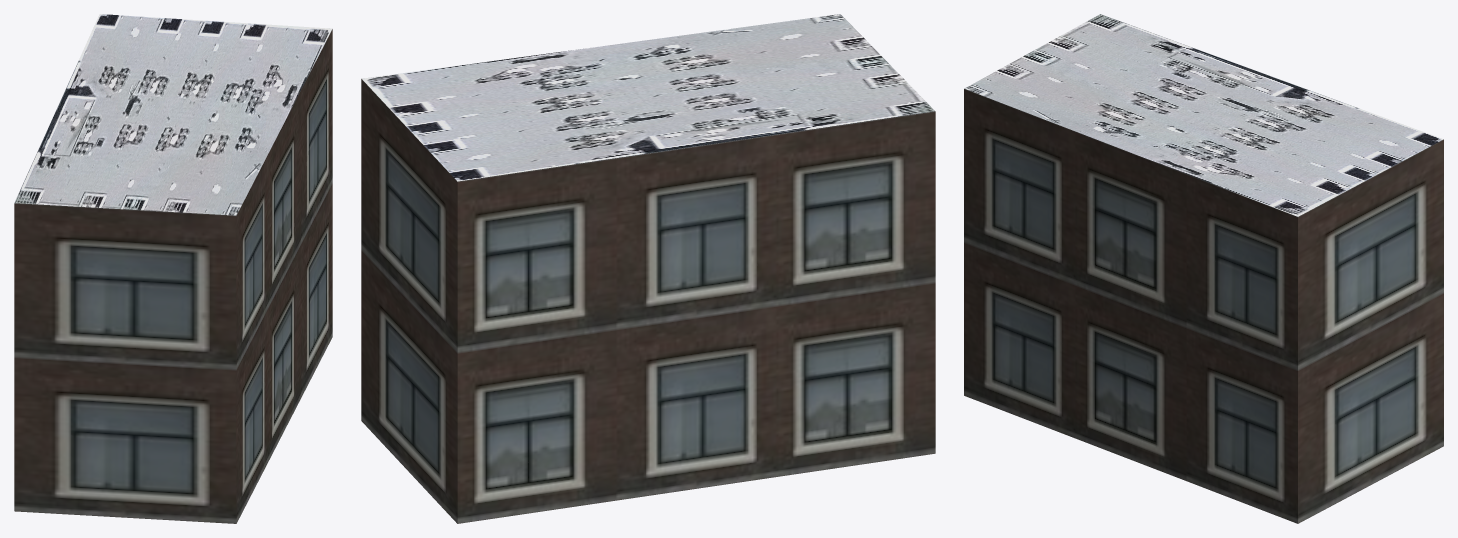
The model's file is ResTex__484.fbx.
The picture shows the model from 3 angles, left to right: view 1: azimuth 30°, elevation 25°; view 2: azimuth 150°, elevation 25°; view 3: azimuth 270°, elevation 25°; orthographic projection. The views are drawn at different scales.
Visible parts, largest first — view 1: CityEngineMaterial_16_m, CityEngineMaterial_15_m; view 2: CityEngineMaterial_16_m, CityEngineMaterial_15_m; view 3: CityEngineMaterial_16_m, CityEngineMaterial_15_m.
Part boxes in pixels (x1,y1,x2,y2): CityEngineMaterial_16_m: [14, 29, 332, 523]; CityEngineMaterial_15_m: [14, 14, 332, 215]; CityEngineMaterial_16_m: [361, 79, 935, 523]; CityEngineMaterial_15_m: [362, 14, 934, 181]; CityEngineMaterial_16_m: [964, 89, 1443, 523]; CityEngineMaterial_15_m: [964, 14, 1443, 216].
Size of the model in its own units: 8.51 by 6 by 8.5.
Materials: 2 (2 with a texture image).
